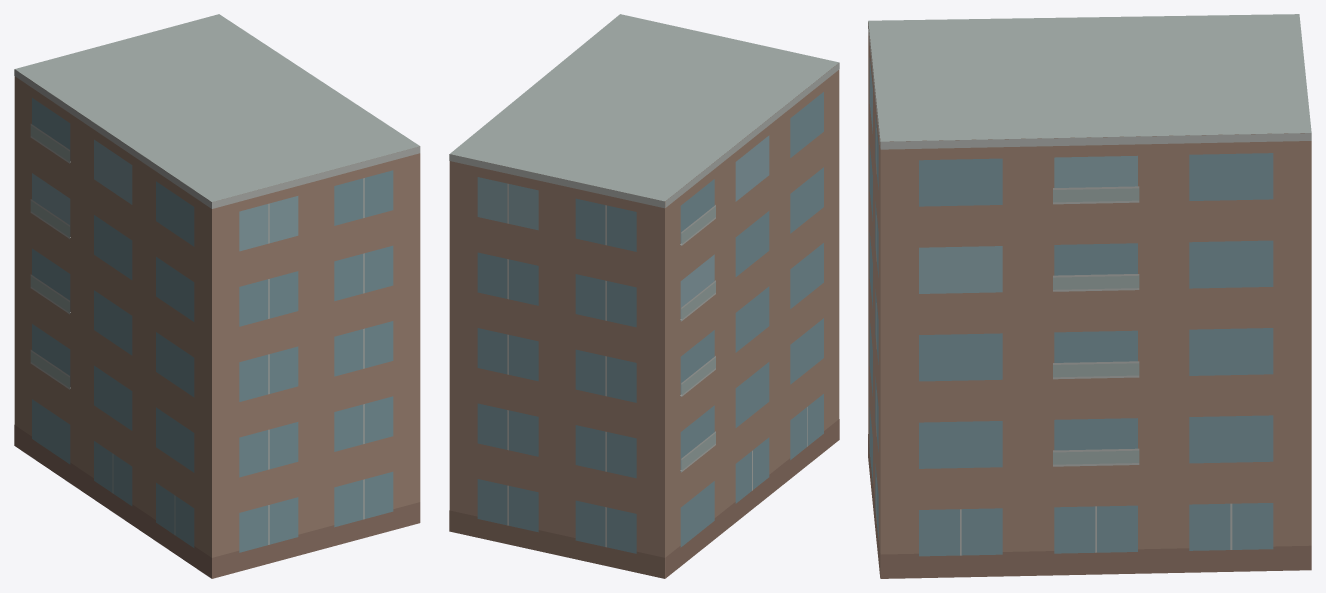
The model's file is survey-upis-32748920.glb.
3 views of the same model, side by side, from view 1: azimuth 30°, elevation 25°; view 2: azimuth 150°, elevation 25°; view 3: azimuth 270°, elevation 25° (orthographic). The views are drawn at different scales.
Visible parts, largest first — view 1: survey-upis-32748920.tmp; view 2: survey-upis-32748920.tmp; view 3: survey-upis-32748920.tmp.
Boxes of the visible parts, x1,y1,x2,y2 form: survey-upis-32748920.tmp: [14, 14, 420, 578]; survey-upis-32748920.tmp: [449, 14, 839, 578]; survey-upis-32748920.tmp: [868, 14, 1311, 578].
Bounding box in the file's own units: 8.34 × 13.3 × 12.23.
